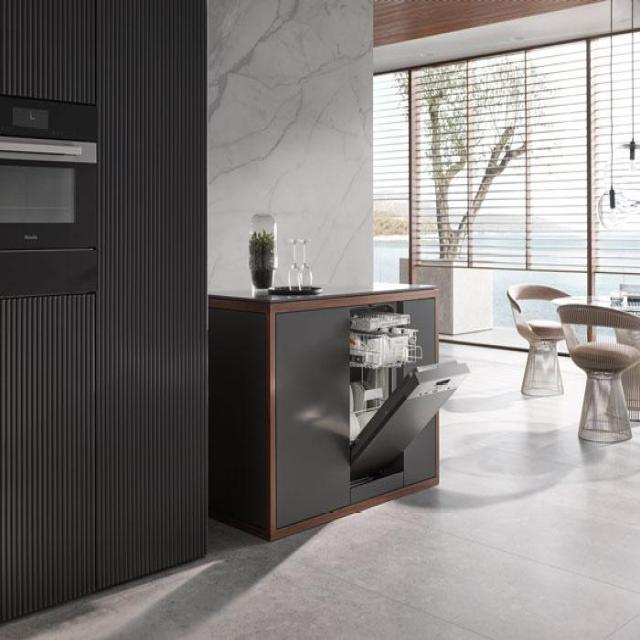dishwasher: (348, 299, 469, 484)
